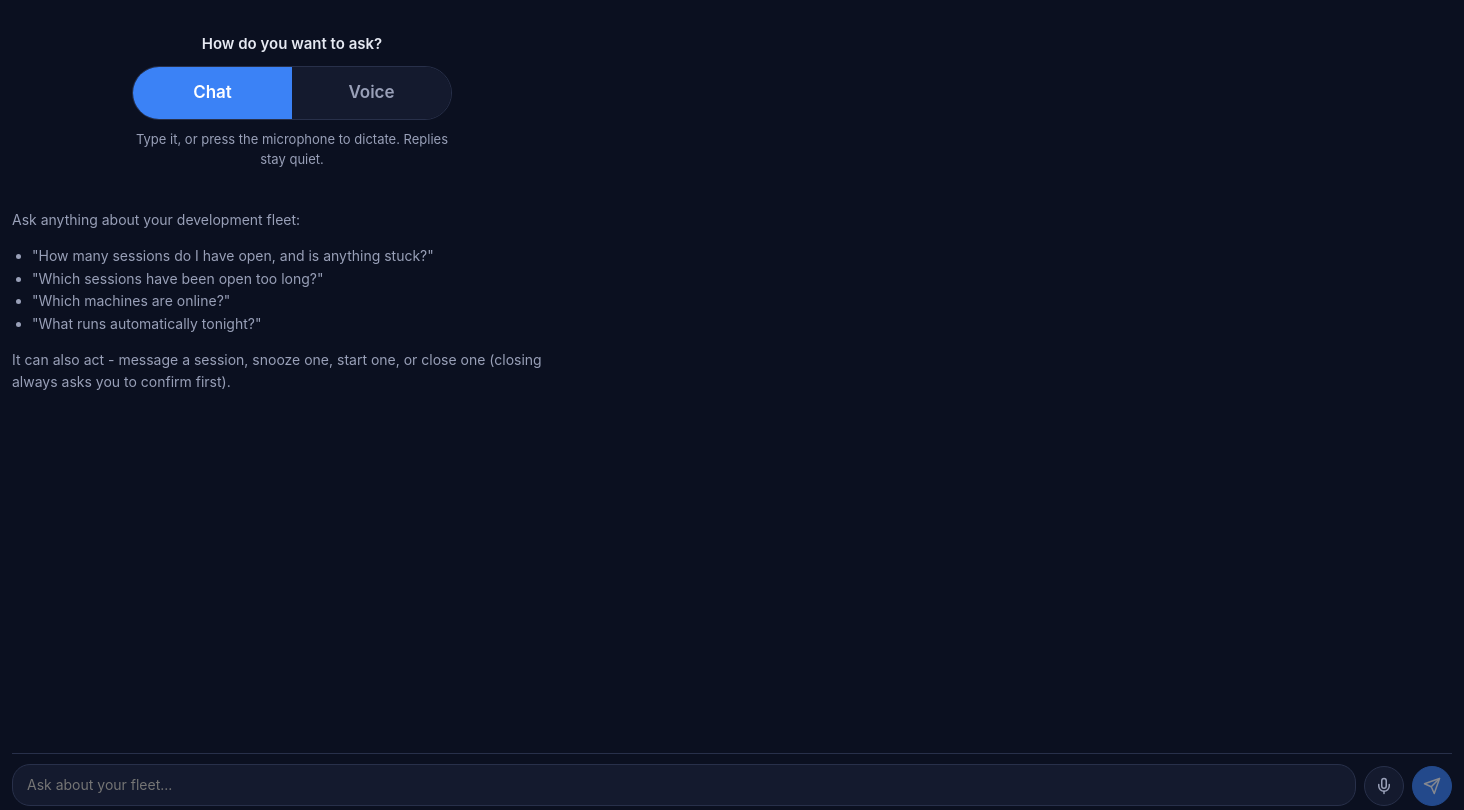
Test: Assistant screen › switching to Voice keeps the choice reachable and changes what the screen offers
Click the tab "Voice".
click(372, 93)  # box [292,67,451,119]
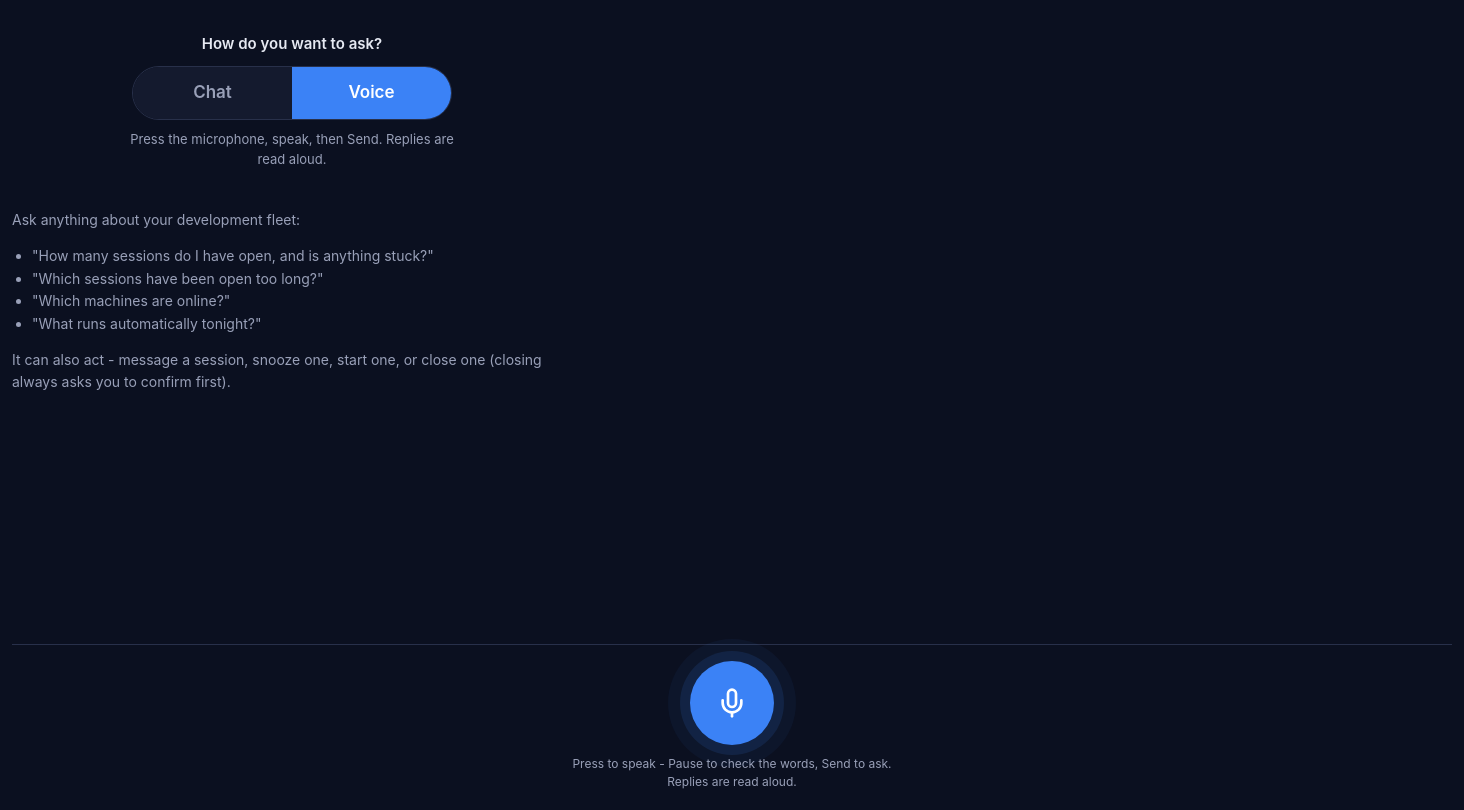
Check: the field with placeholder "Ask about your fleet" is not shown
Check: the text "Press to speak" is shown, box [572,756,892,789]
